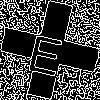E: (25, 25, 68, 77)
